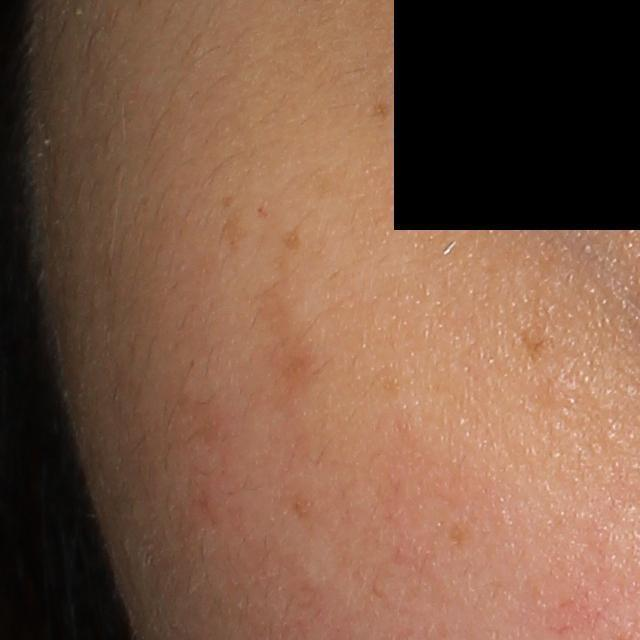melasma: (513, 321, 555, 369), (214, 202, 252, 253), (279, 222, 307, 251), (219, 193, 237, 208)
